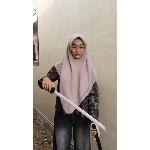Pedang: (36, 77, 110, 131)
